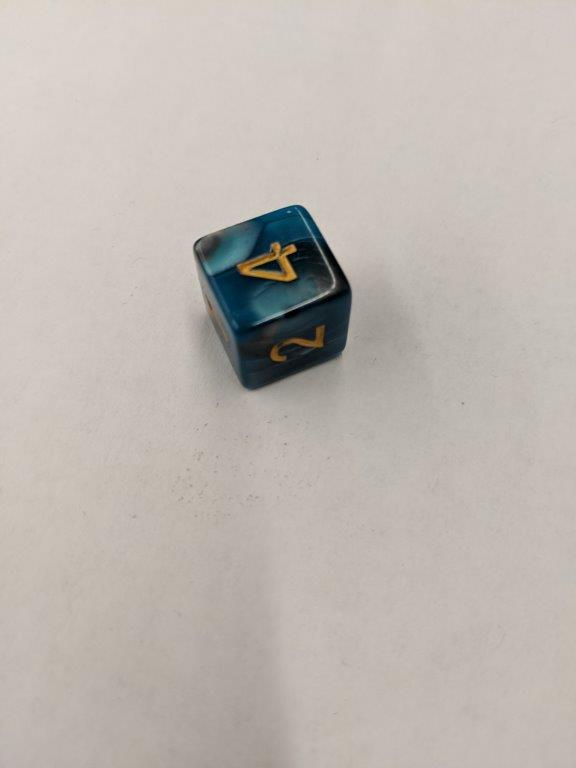d6-4: (193, 203, 352, 392)
